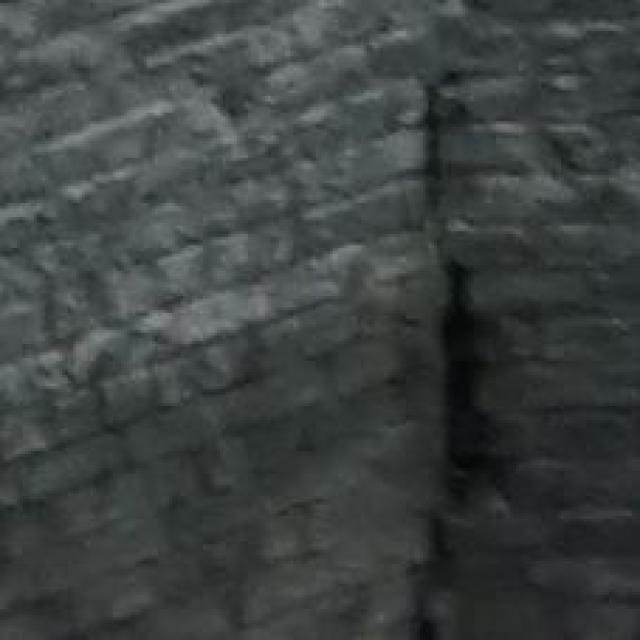Crack: (361, 63, 576, 640)
